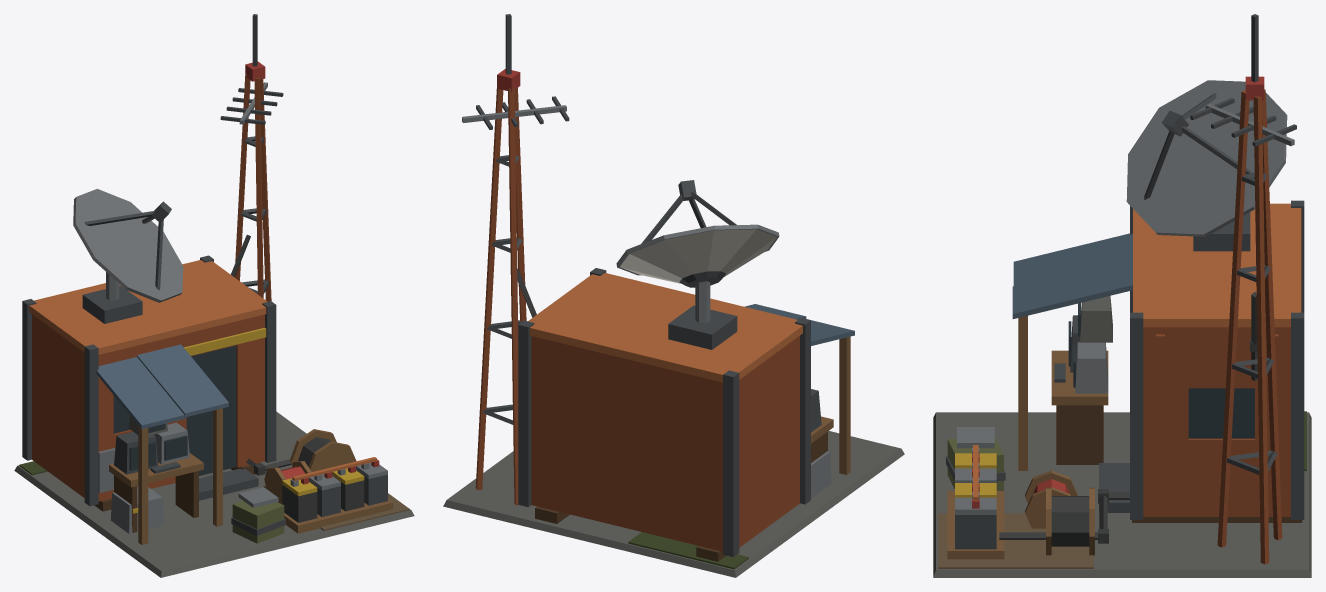
The model's file is electronics_lab_l1.glb.
The picture shows the model from 3 angles, left to right: view 1: azimuth 30°, elevation 25°; view 2: azimuth 150°, elevation 25°; view 3: azimuth 270°, elevation 25°; orthographic projection. The views are drawn at different scales.
Parts seen in each view (by area): view 1: electronics_lab_structure, electronics_lab_props, electronics_lab_roof; view 2: electronics_lab_structure, electronics_lab_props, electronics_lab_roof; view 3: electronics_lab_structure, electronics_lab_props, electronics_lab_roof.
Boxes of the visible parts, <box> form: electronics_lab_structure: <box>14,74,414,577</box>; electronics_lab_props: <box>22,14,393,543</box>; electronics_lab_roof: <box>29,260,267,429</box>; electronics_lab_structure: <box>443,87,904,577</box>; electronics_lab_props: <box>462,14,833,557</box>; electronics_lab_roof: <box>528,273,854,382</box>; electronics_lab_structure: <box>933,89,1311,577</box>; electronics_lab_props: <box>946,14,1304,559</box>; electronics_lab_roof: <box>1012,203,1301,327</box>.
Bounding box in the file's own units: 4 × 6.3 × 4.
